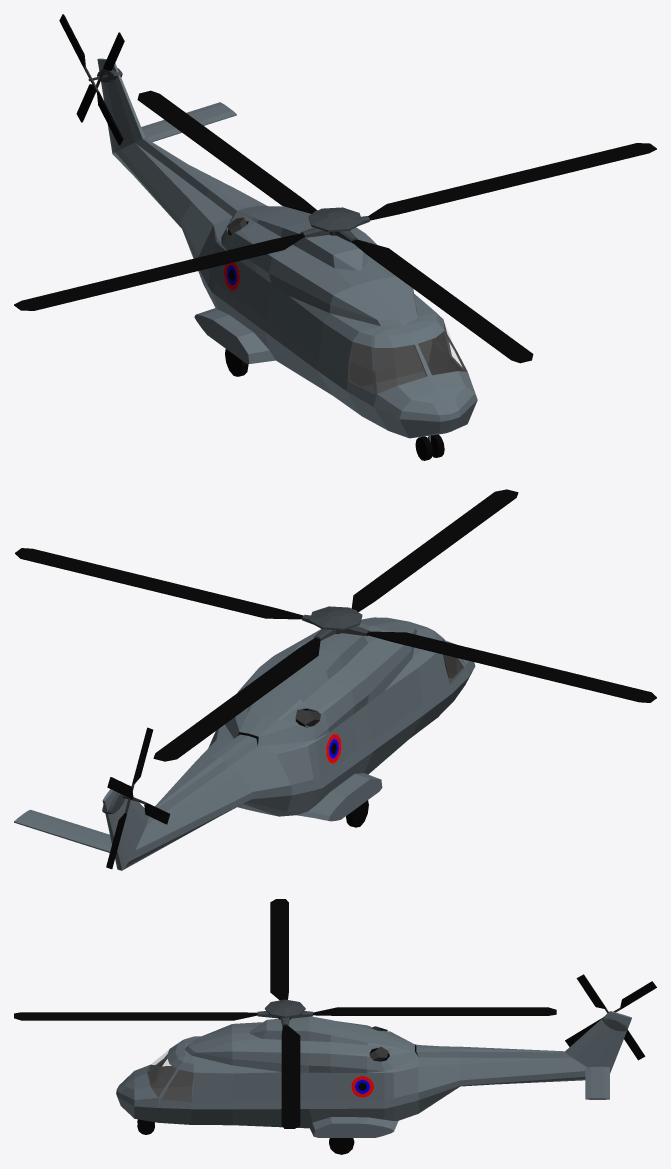
3 views of the same model, one above another, from view 1: azimuth 30°, elevation 25°; view 2: azimuth 150°, elevation 25°; view 3: azimuth 270°, elevation 25° (orthographic). The views are drawn at different scales.
Parts seen in each view (by area): view 1: Circle.024, Circle.028, Circle.027, Circle.029; view 2: Circle.024, Circle.028, Circle.029; view 3: Circle.024, Circle.028, Circle.027, Circle.029.
Boxes of the visible parts, left/top/right/bottom form: Circle.024: left=97, top=58, right=477, bottom=438; Circle.028: left=14, top=90, right=656, bottom=363; Circle.027: left=348, top=322, right=466, bottom=393; Circle.029: left=59, top=14, right=124, bottom=145; Circle.024: left=14, top=617, right=475, bottom=870; Circle.028: left=15, top=489, right=656, bottom=761; Circle.029: left=106, top=727, right=170, bottom=869; Circle.024: left=116, top=1011, right=631, bottom=1137; Circle.028: left=14, top=899, right=556, bottom=1128; Circle.027: left=148, top=1050, right=193, bottom=1101; Circle.029: left=565, top=974, right=656, bottom=1060.
Bounding box in the file's own units: 2163 × 675 × 2563.
